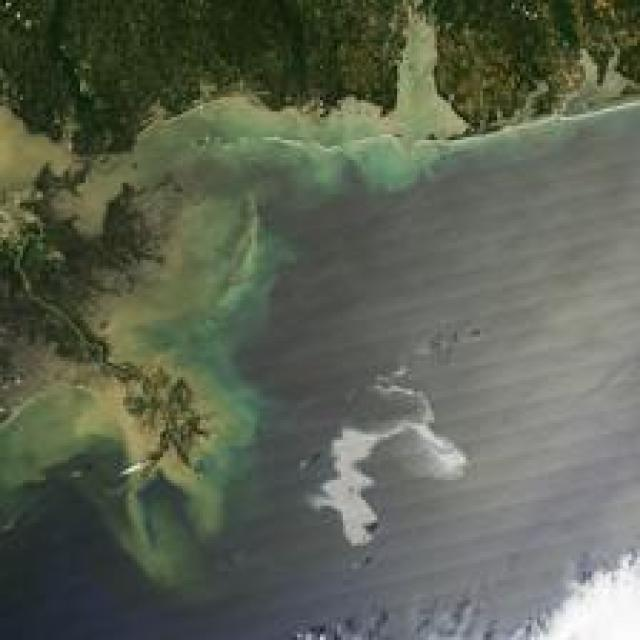algal: (3, 432, 202, 585), (206, 189, 262, 465)
oil spill: (312, 383, 468, 545)
